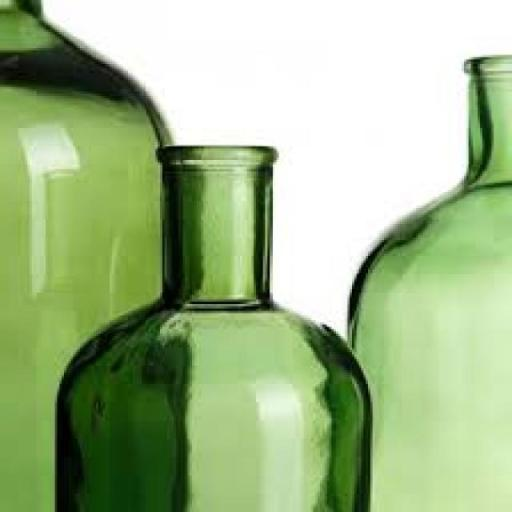glass: (56, 150, 372, 508), (4, 13, 168, 495), (350, 65, 508, 500)
